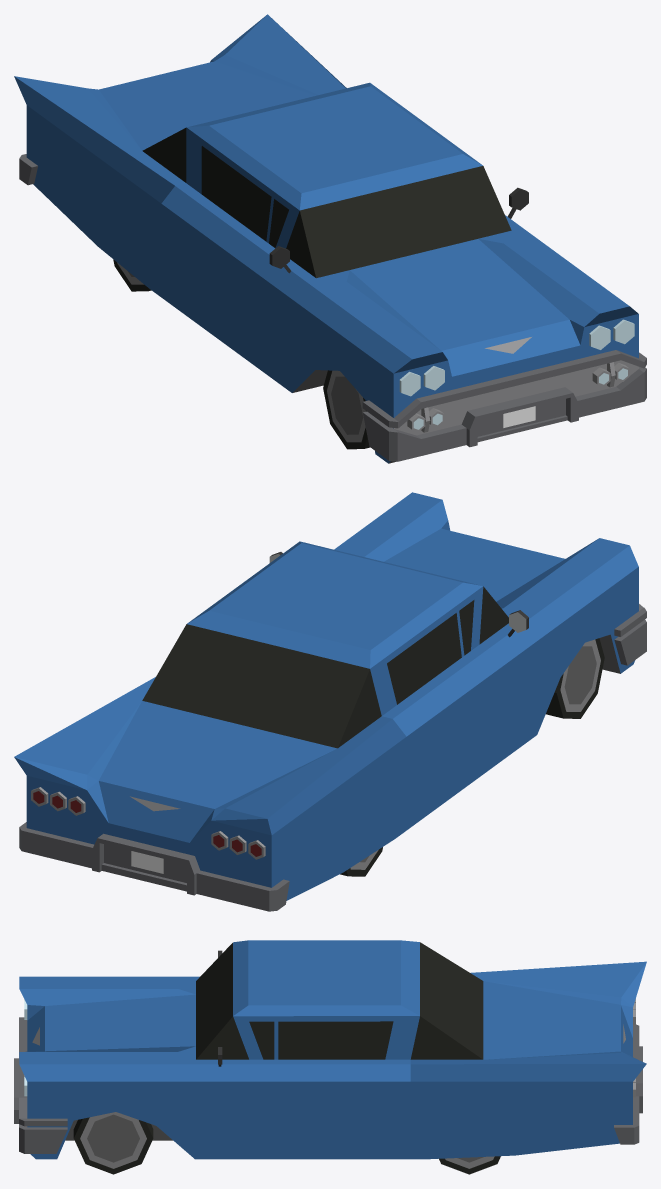
File: Veh_Retro_Car_03_Blue.obj
3 renders of one model, top to bottom at view 1: azimuth 30°, elevation 25°; view 2: azimuth 150°, elevation 25°; view 3: azimuth 270°, elevation 25°, orthographic. The views are drawn at different scales.
Bounding box in the file's own units: 1.16 × 0.8052 × 2.99.
